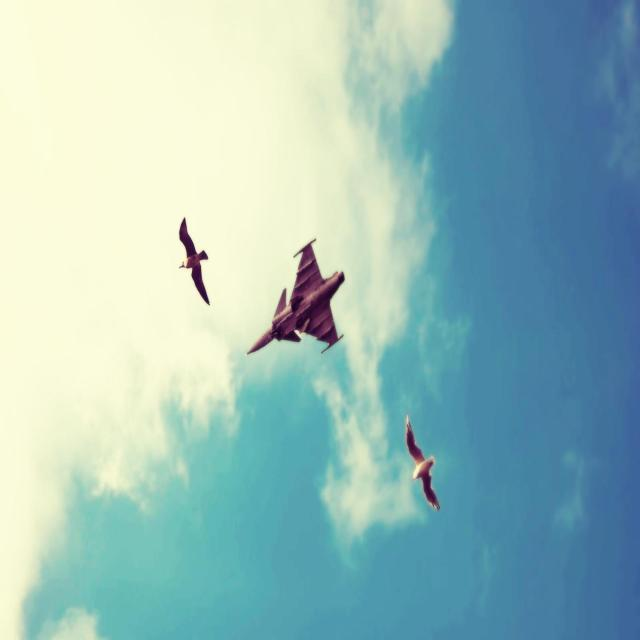airplane: (246, 237, 345, 356)
